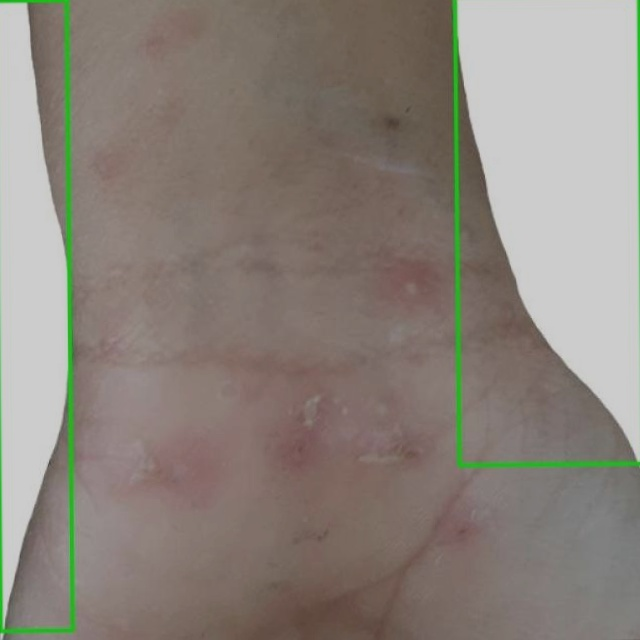Scabies: (455, 0, 639, 465), (0, 0, 72, 631)
